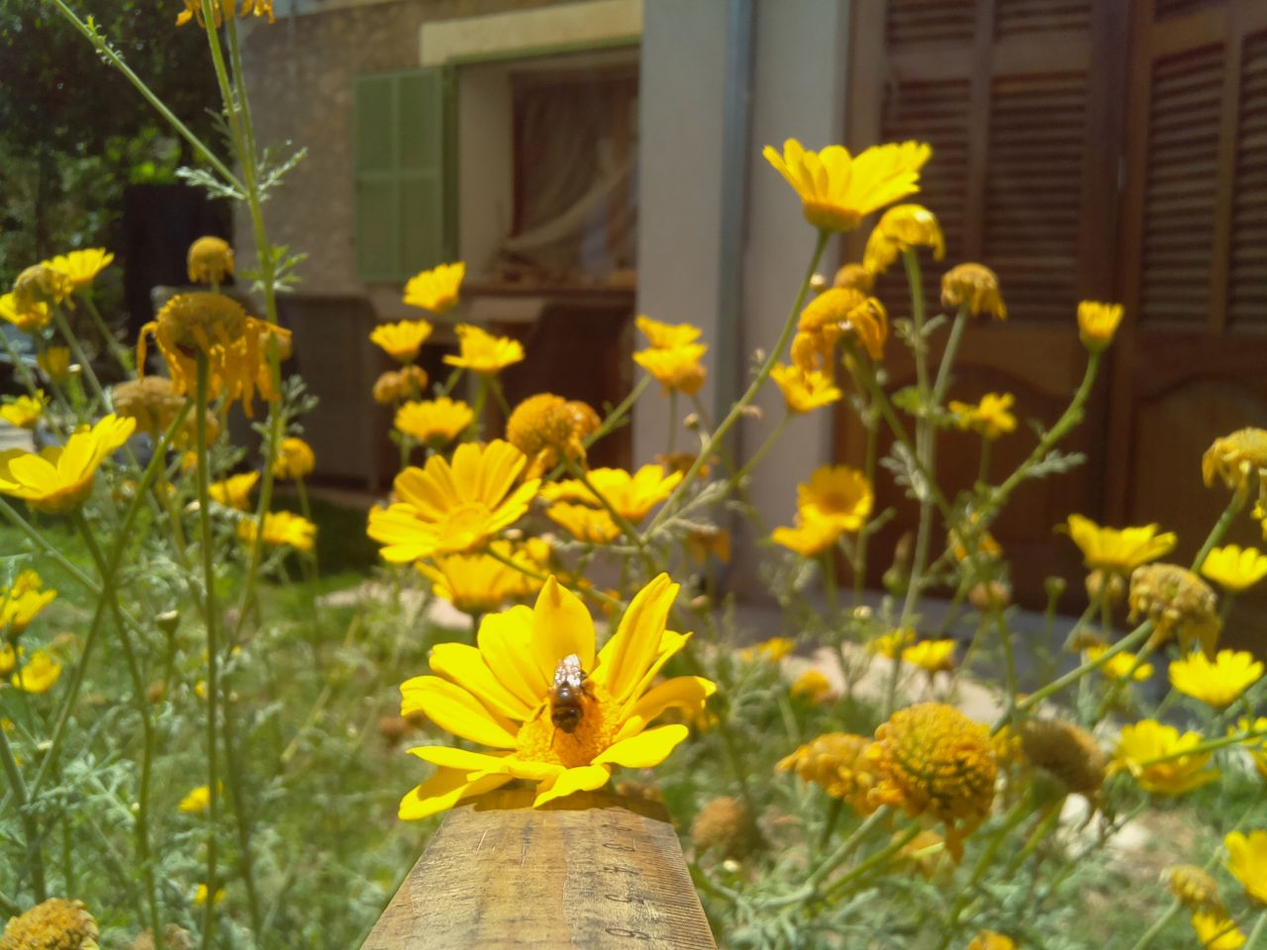Eucera: (519, 644, 616, 739)
